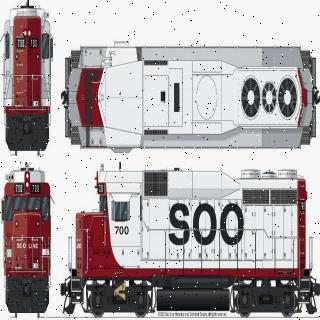poezd: (67, 160, 317, 316), (65, 40, 318, 148), (4, 5, 51, 153), (4, 171, 51, 312)
